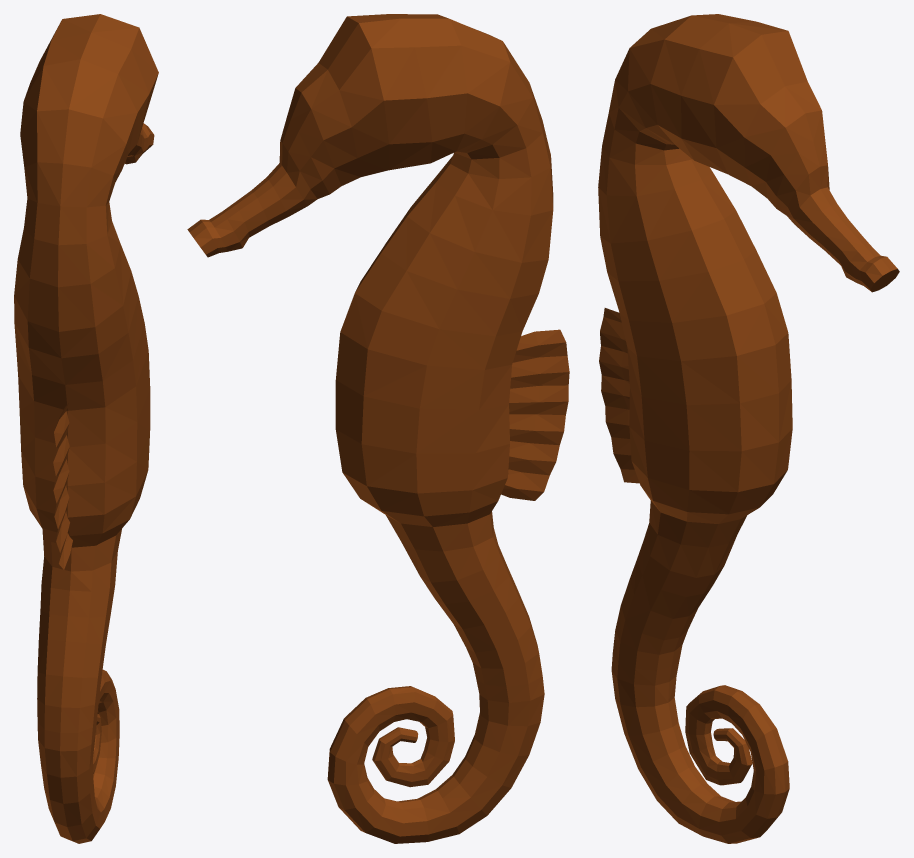
File: horse.obj
The picture shows the model from 3 angles, left to right: view 1: azimuth 30°, elevation 25°; view 2: azimuth 150°, elevation 25°; view 3: azimuth 270°, elevation 25°; orthographic projection. The views are drawn at different scales.
Parts seen in each view (by area): view 1: Cube.002_Cube.000; view 2: Cube.002_Cube.000; view 3: Cube.002_Cube.000.
Part boxes in pixels (x1,y1,x2,y2): Cube.002_Cube.000: [14, 14, 158, 843]; Cube.002_Cube.000: [187, 14, 569, 843]; Cube.002_Cube.000: [598, 14, 899, 843].
Bounding box in the file's own units: 0.687 × 2.2 × 0.7314.
